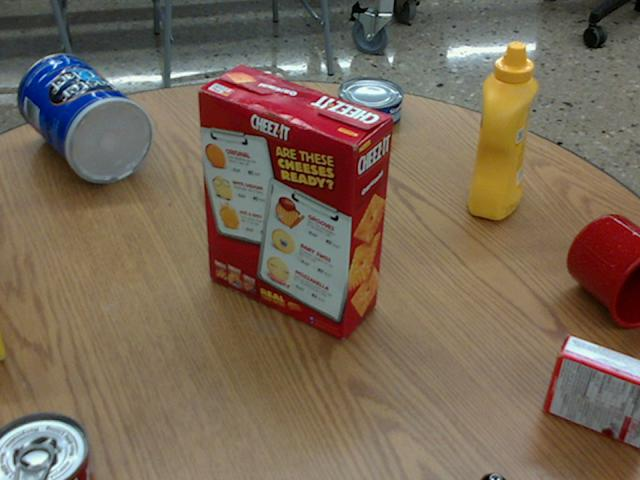cracker_box: (200, 65, 395, 337)
gelatin_box: (545, 336, 639, 448)
large_marker: (491, 477, 507, 479)
master_chef_can: (20, 54, 154, 183)
mug: (567, 213, 639, 327)
mustard_bottle: (468, 41, 538, 218)
potted_meat_can: (236, 87, 322, 196)
sugar_box: (0, 314, 8, 359)
tomato_soup_can: (0, 412, 99, 479)
tuna_fish_can: (338, 74, 404, 128)
